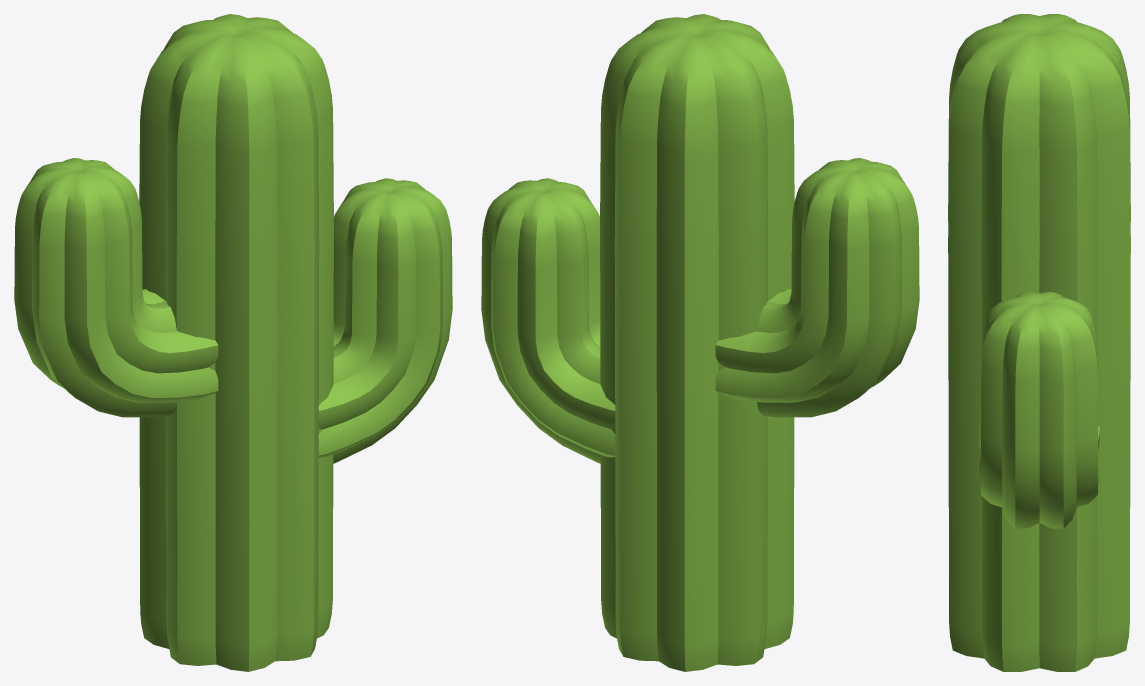
File: Cactus.gltf
3 renders of one model, left to right at view 1: azimuth 30°, elevation 25°; view 2: azimuth 150°, elevation 25°; view 3: azimuth 270°, elevation 25°, orthographic.
Parts seen in each view (by area): view 1: Circle.2076; view 2: Circle.2076; view 3: Circle.2076.
Part boxes in pixels (x1,y1,x2,y2): Circle.2076: (14,14,452,671); Circle.2076: (481,14,919,671); Circle.2076: (948,14,1130,671).
Size of the model in its own units: 1.32 by 1.83 by 0.5006.
1 material, 1 textured.
